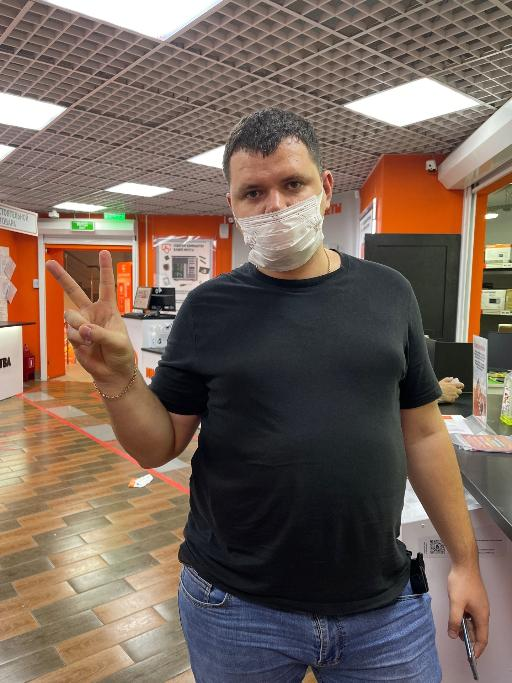no_gesture: (440, 559, 495, 663)
peace: (41, 245, 140, 385)
